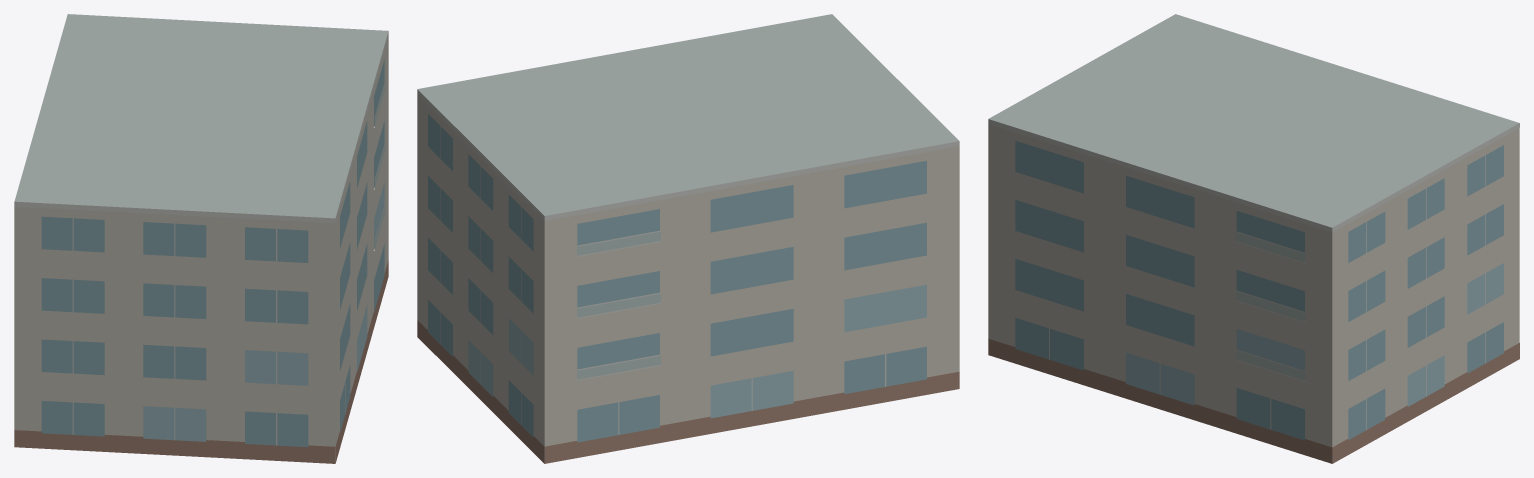
Rendered from survey-upis-33005468.glb.
The picture shows the model from 3 angles, left to right: view 1: azimuth 30°, elevation 25°; view 2: azimuth 150°, elevation 25°; view 3: azimuth 270°, elevation 25°; orthographic projection. The views are drawn at different scales.
Visible parts, largest first — view 1: survey-upis-33005468.tmp; view 2: survey-upis-33005468.tmp; view 3: survey-upis-33005468.tmp.
Part boxes in pixels (x1=…): survey-upis-33005468.tmp: x1=14, y1=14, x2=388, y2=463; survey-upis-33005468.tmp: x1=417, y1=14, x2=959, y2=463; survey-upis-33005468.tmp: x1=988, y1=14, x2=1519, y2=463.
Size of the model in its own units: 23.32 by 12 by 24.49.
